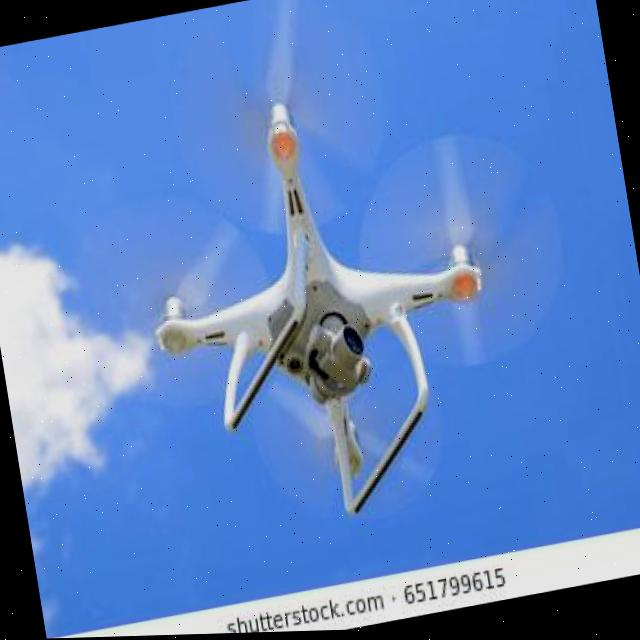drone: (42, 0, 615, 566)
